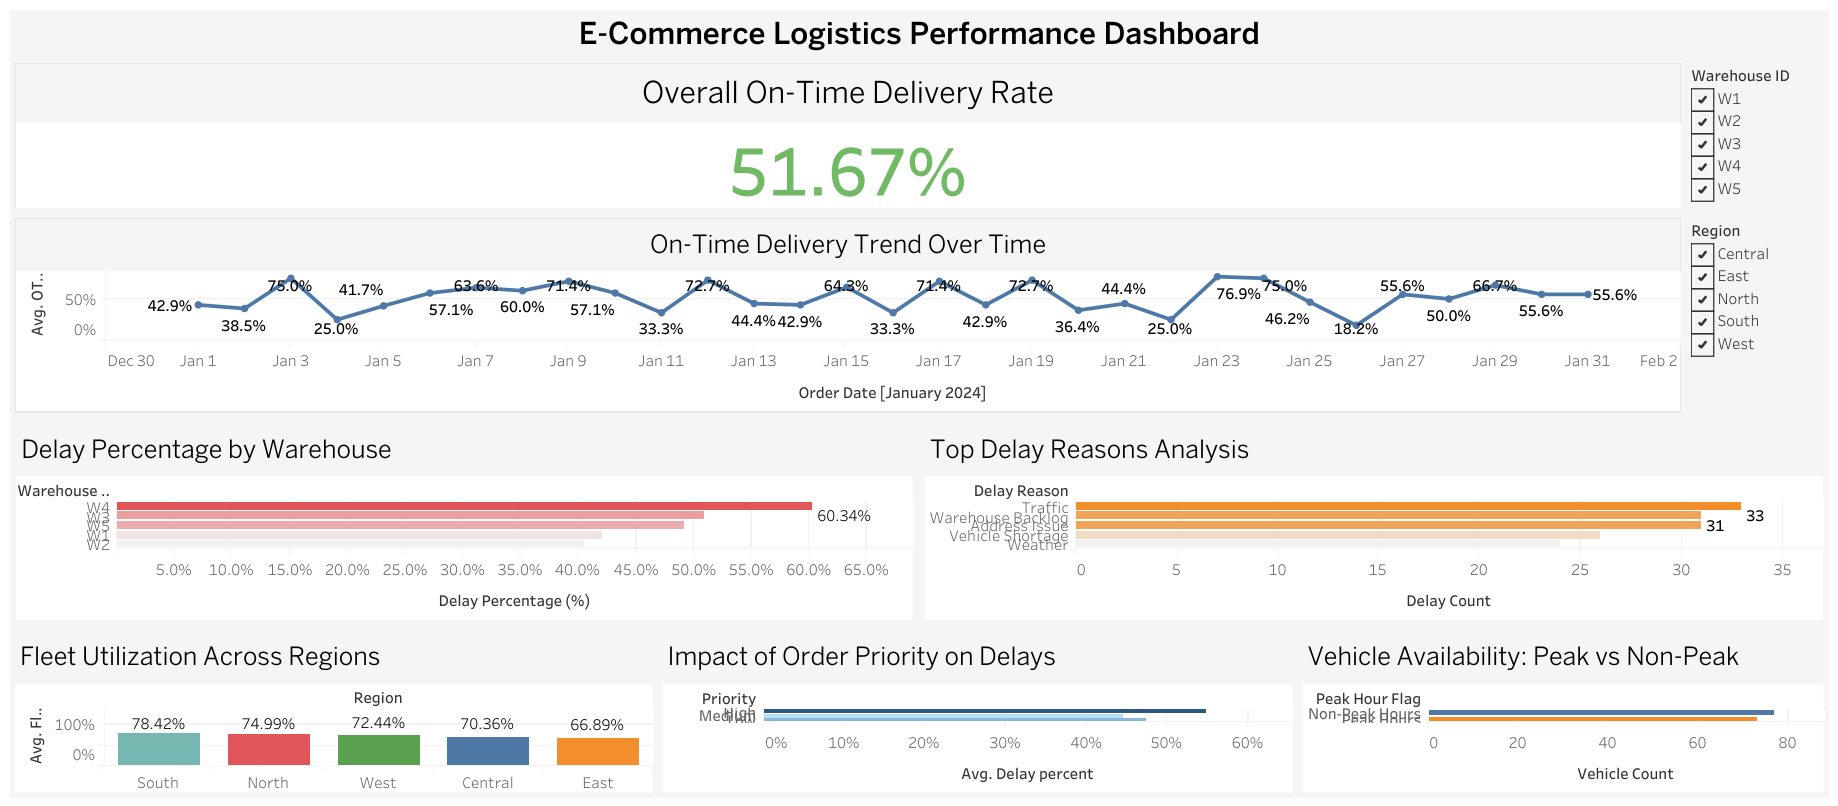

This screenshot's page, from the dashboard's own definition file:
{"tool":"tableau","page":{"name":"On-Time Delivery & Delay Analysis","canvas":[1000,1000],"units":"permille","ordinal":0},"visuals":[{"type":"title","box":[6.1,12.6,987.8,59.8]},{"type":"worksheet","title":"OTD % Overall","mark":"Text","box":[6.1,72.4,910.6,191.2]},{"type":"filter","title":"Delays by Warehouse","param":"[federated.1pprn3g0motn681anx7wq0j5gkjc].[none:Warehouse_ID:nk]","box":[916.6,72.4,77.3,191.2]},{"type":"worksheet","title":"OTD Trend Over Time","mark":"Line","rows":["Calculation_0961564827074563"],"cols":["Order_Date"],"box":[6.1,263.6,910.6,253.3]},{"type":"filter","title":"Fleet Utilization by Region","param":"[federated.1pprn3g0motn681anx7wq0j5gkjc].[none:Region:nk]","box":[916.6,263.6,77.3,253.3]},{"type":"worksheet","title":"Delays by Warehouse","mark":"Automatic","rows":["Warehouse_ID"],"cols":["Calculation_0961564824002561"],"box":[6.1,516.9,493.9,258.3]},{"type":"worksheet","title":"Delay Reasons Distribution","mark":"Automatic","rows":["Delay_Reason"],"cols":["delay_count"],"box":[499.9,516.9,494,258.3]},{"type":"worksheet","title":"Fleet Utilization by Region","mark":"Automatic","rows":["Calculation_0961564937150469"],"cols":["Region"],"box":[6.1,775.2,351.6,212.2]},{"type":"worksheet","title":"Priority vs Delay ","mark":"Automatic","rows":["Priority"],"cols":["Calculation_0961564938530822"],"box":[357.7,775.2,347.8,212.2]},{"type":"worksheet","title":"Vehicle Availability by Peak Hour","mark":"Automatic","rows":["Peak_Hour_Flag"],"cols":["vehicle_count"],"box":[705.5,775.2,288.4,212.2]}]}

Visuals, with their boxes on the dashboard's canvas, which has no fixed pixel size, in thousandths of its width and height (x1, y1, x2, y2). These are canvas units, not pixel positions in the 1838x806 screenshot, which may show the page scaled, cropped or inside an application window:
title: l=6, t=13, r=994, b=72
"OTD % Overall" worksheet (Text marks): l=6, t=72, r=917, b=264
"Delays by Warehouse" filter: l=917, t=72, r=994, b=264
"OTD Trend Over Time" worksheet (Line marks): l=6, t=264, r=917, b=517
"Fleet Utilization by Region" filter: l=917, t=264, r=994, b=517
"Delays by Warehouse" worksheet: l=6, t=517, r=500, b=775
"Delay Reasons Distribution" worksheet: l=500, t=517, r=994, b=775
"Fleet Utilization by Region" worksheet: l=6, t=775, r=358, b=987
"Priority vs Delay " worksheet: l=358, t=775, r=706, b=987
"Vehicle Availability by Peak Hour" worksheet: l=706, t=775, r=994, b=987
